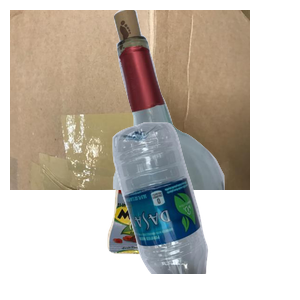cardboard: (10, 10, 250, 190)
glass: (89, 10, 300, 190)
plastic: (110, 120, 300, 300)
trash: (105, 152, 280, 300)
